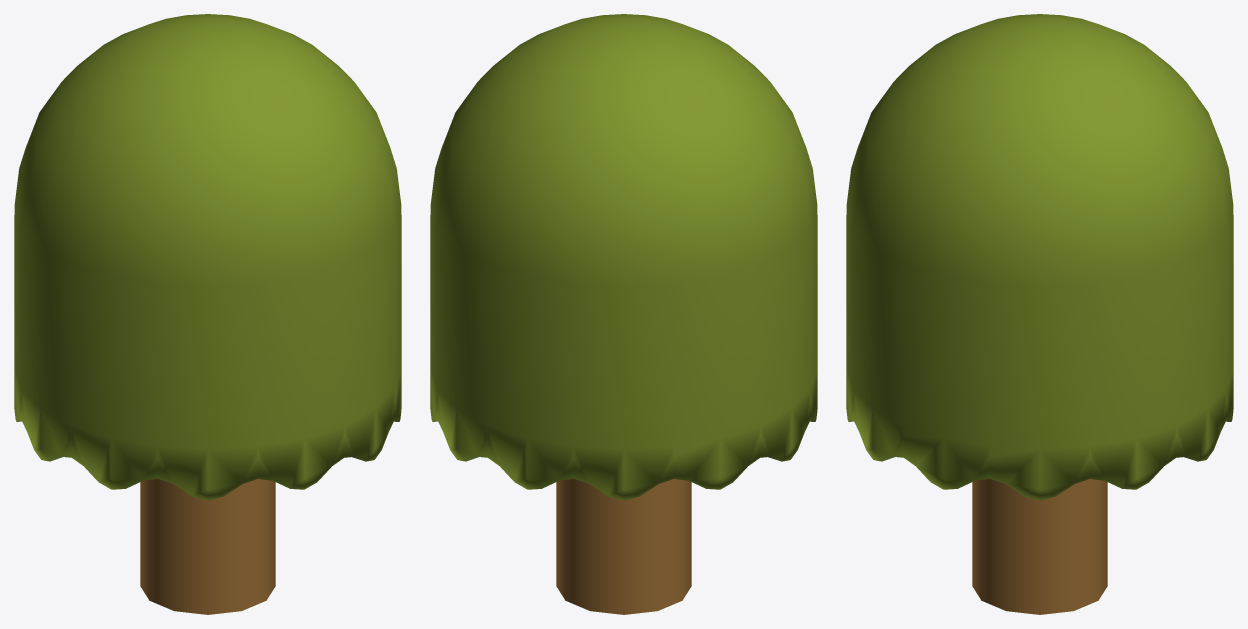
The model's file is tree5.fbx.
3 renders of one model, left to right at view 1: azimuth 30°, elevation 25°; view 2: azimuth 150°, elevation 25°; view 3: azimuth 270°, elevation 25°, orthographic.
Parts seen in each view (by area): view 1: tree.004; view 2: tree.004; view 3: tree.004.
Part boxes in pixels (bbox=[...]): tree.004: bbox=[14, 14, 401, 614]; tree.004: bbox=[430, 14, 817, 614]; tree.004: bbox=[846, 14, 1233, 614].
Bounding box in the file's own units: 146 × 230 × 146.
